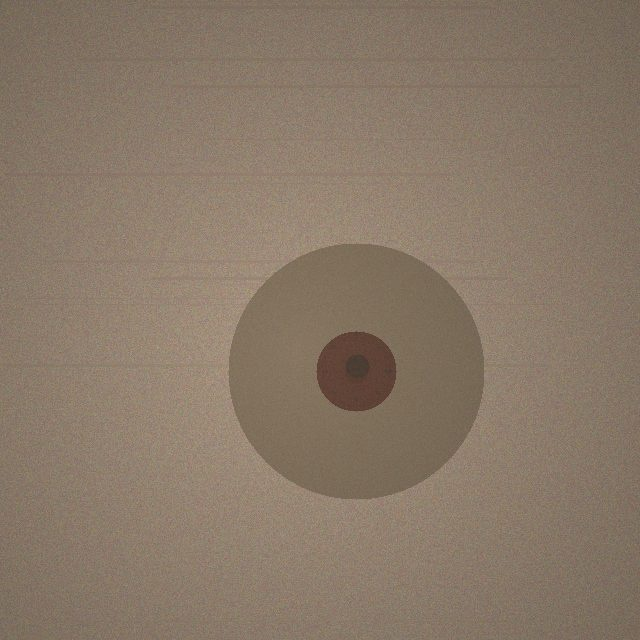cold_weld: (228, 243, 484, 499)
